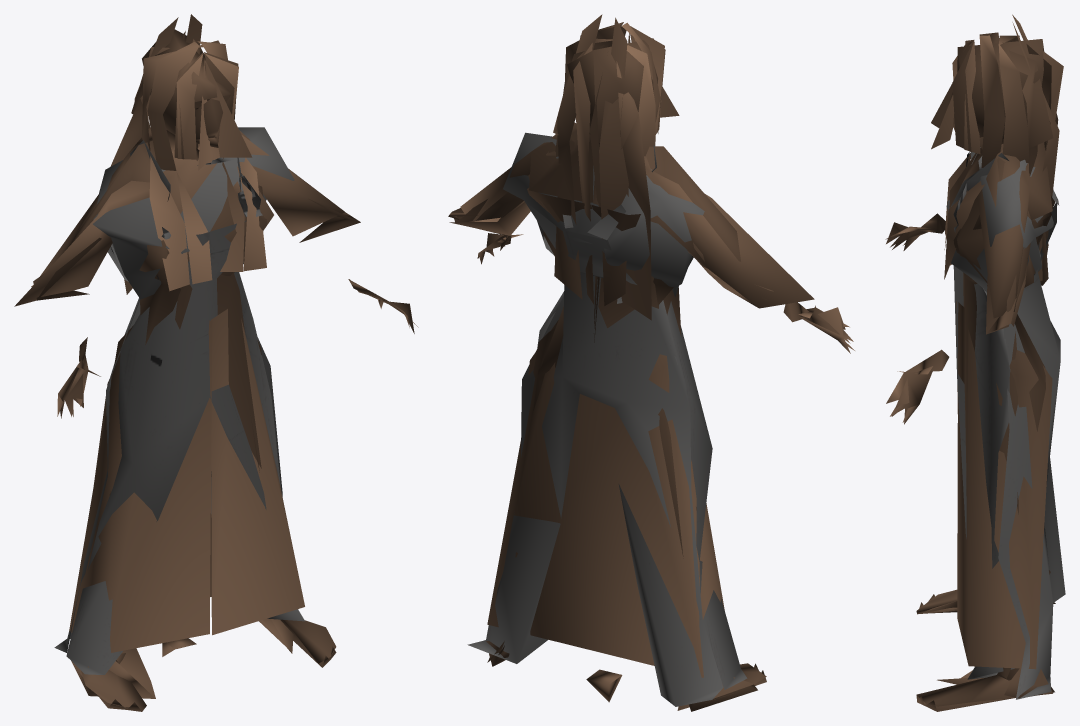
The picture shows the model from 3 angles, left to right: view 1: azimuth 30°, elevation 25°; view 2: azimuth 150°, elevation 25°; view 3: azimuth 270°, elevation 25°; orthographic projection. The views are drawn at different scales.
Visible parts, largest first — view 1: body.002; view 2: body.002; view 3: body.002.
Boxes of the visible parts, x1=… form: body.002: x1=14, y1=14, x2=418, y2=711; body.002: x1=448, y1=14, x2=854, y2=711; body.002: x1=885, y1=14, x2=1065, y2=711.
Bounding box in the file's own units: 1.21 × 2.05 × 0.52.
Materials: 2 (1 with a texture image).
